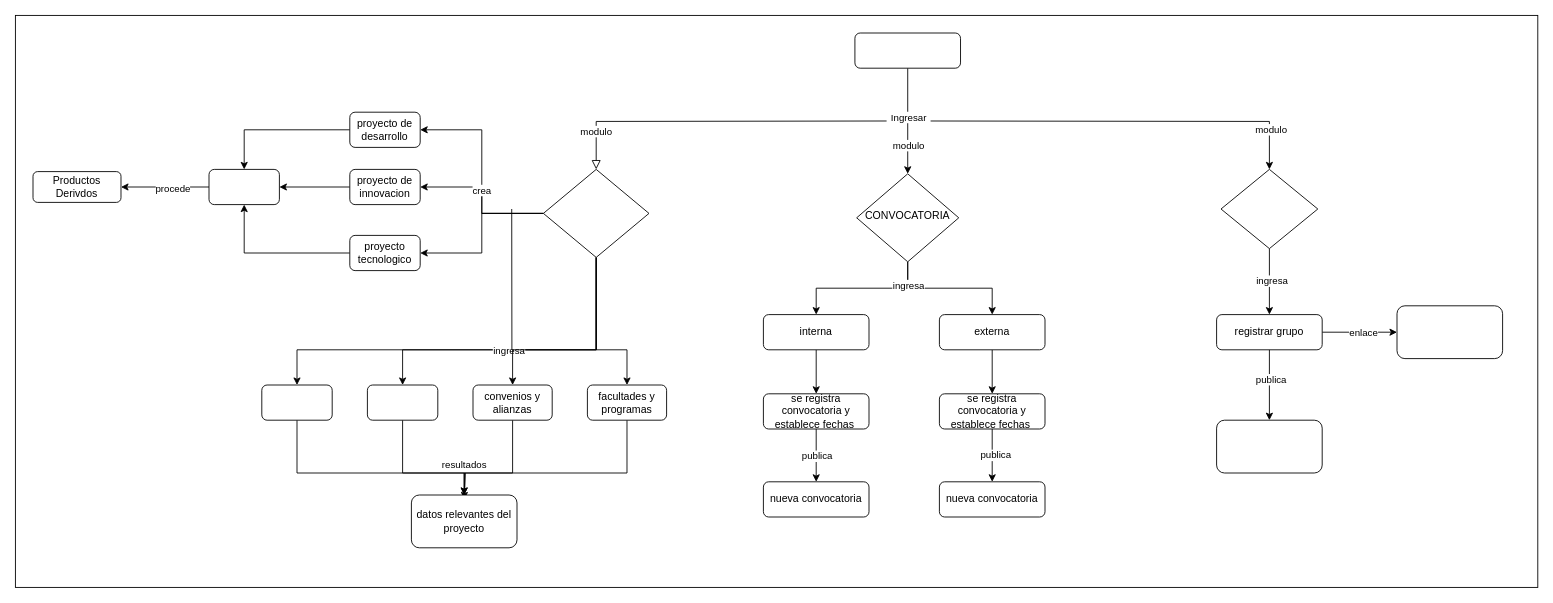
Image size: 1553x603. Some labels were removed from this diagram. Here are the shapes that lost their labels. From the top down, the centre of each, then its label:
At point (907, 50): "SIGIM".
At point (243, 187): "evaluar para dar acta de inicio".
At point (596, 213): "INVESTIGACIÓN".
At point (1269, 209): "GRUPOS".
At point (1449, 332): "CvLac".
At point (296, 402): "pasantes".
At point (402, 402): "semilleristas".
At point (1269, 446): "nuevo grupo".
